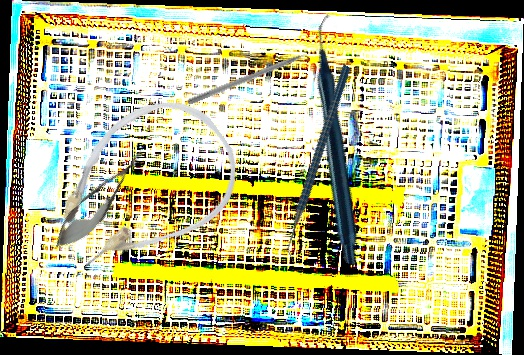Cannula: (28, 76, 259, 296)
Chopper: (229, 63, 411, 266)
Handpiece: (225, 13, 455, 267)
Micro Scissor: (45, 141, 155, 259)
Pusher: (186, 45, 325, 107)
